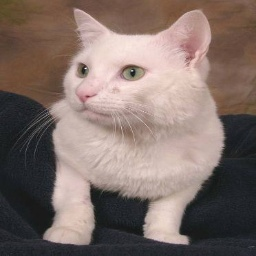cat: (37, 3, 223, 244)
